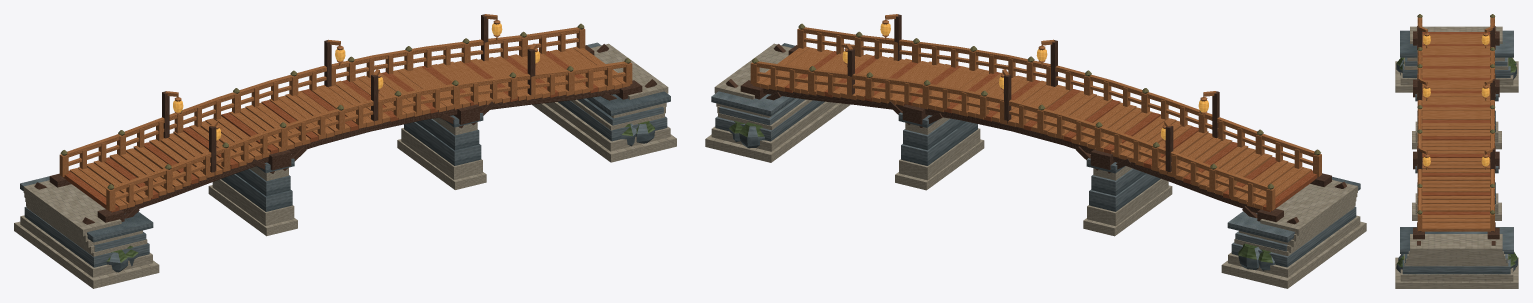
Rendered from kyoto_togetsukyo_mid.glb.
3 renders of one model, left to right at view 1: azimuth 30°, elevation 25°; view 2: azimuth 150°, elevation 25°; view 3: azimuth 270°, elevation 25°, orthographic. The views are drawn at different scales.
Visible parts, largest first — view 1: kyoto_togetsukyo_mid; view 2: kyoto_togetsukyo_mid; view 3: kyoto_togetsukyo_mid.
Part boxes in pixels (box(x1,y1,x2,y2)): kyoto_togetsukyo_mid: box(14, 14, 676, 288); kyoto_togetsukyo_mid: box(705, 14, 1366, 288); kyoto_togetsukyo_mid: box(1395, 14, 1518, 288).
Size of the model in its own units: 32 by 6.8 by 7.5.
Materials: 2 (2 with a texture image).
